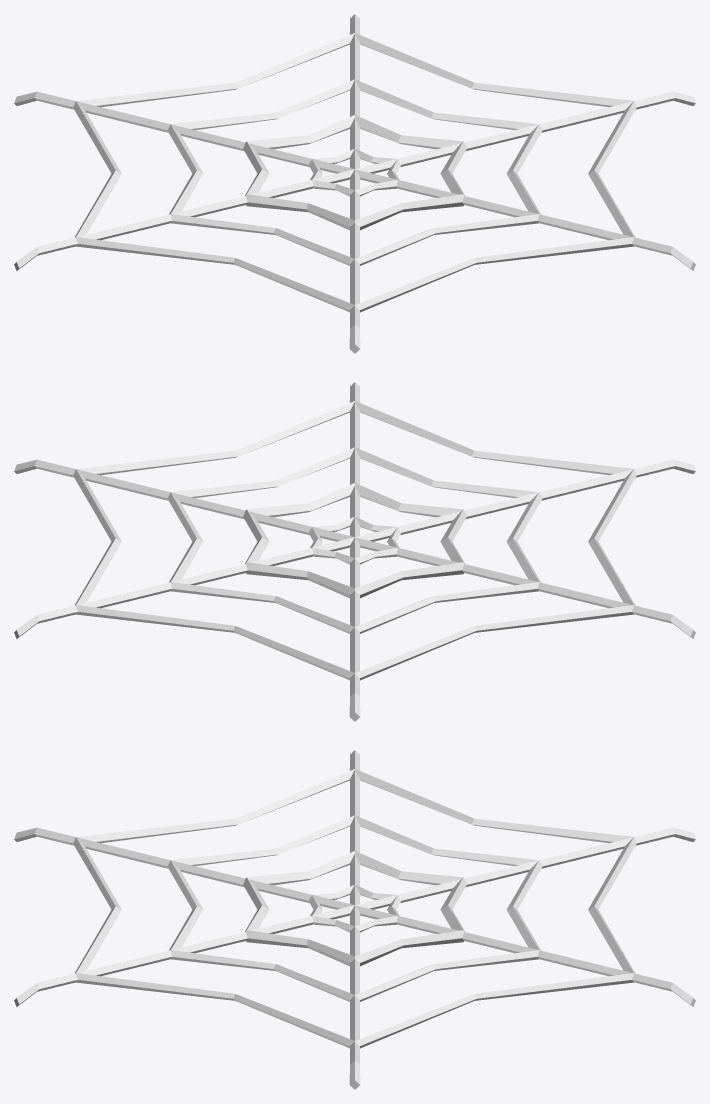
Rendered from SpiderWeb.fbx.
The picture shows the model from 3 angles, top to bottom: view 1: azimuth 30°, elevation 25°; view 2: azimuth 150°, elevation 25°; view 3: azimuth 270°, elevation 25°; orthographic projection.
Parts seen in each view (by area): view 1: SpiderWeb; view 2: SpiderWeb; view 3: SpiderWeb.
Part boxes in pixels (x1,y1,x2,y2): SpiderWeb: (14, 14, 695, 353); SpiderWeb: (14, 382, 695, 721); SpiderWeb: (14, 750, 695, 1089).
Size of the model in its own units: 88.72 by 2.65 by 77.44.
Materials: 1 (1 with a texture image).
